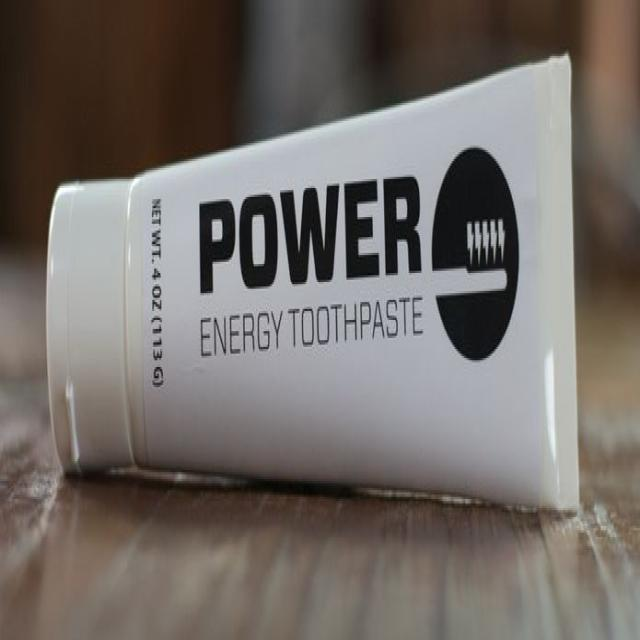toothpaste: (34, 69, 590, 527)
